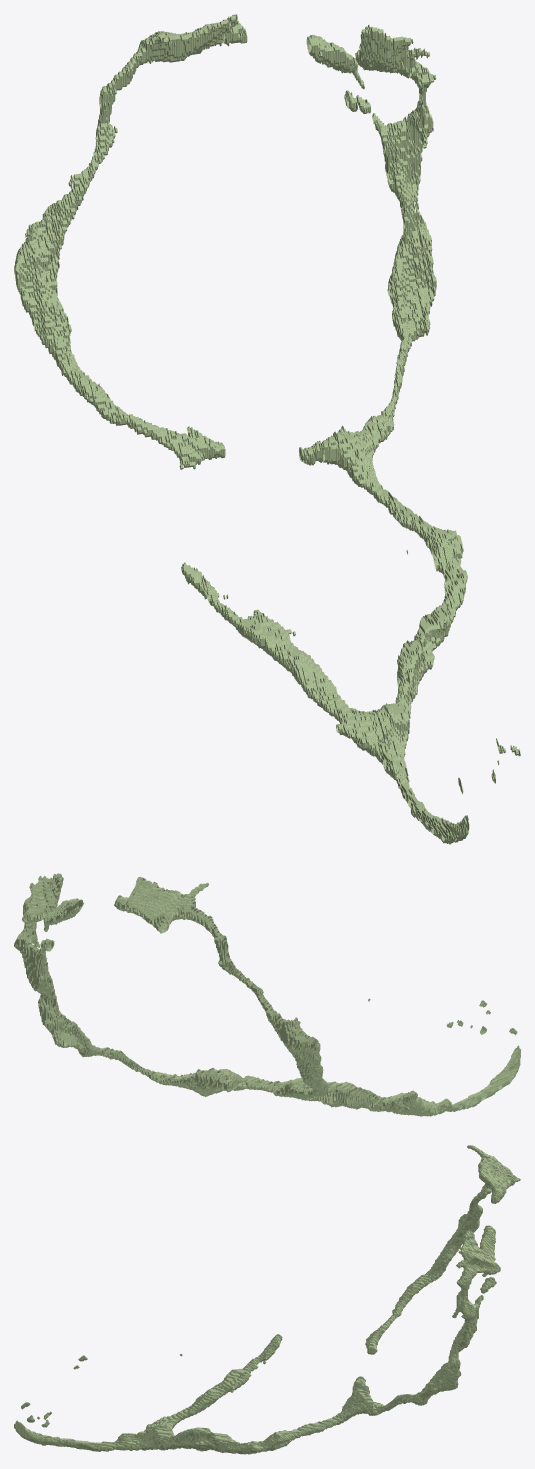
Rendered from SVV_RIH.gltf.
3 renders of one model, top to bottom at view 1: azimuth 30°, elevation 25°; view 2: azimuth 150°, elevation 25°; view 3: azimuth 270°, elevation 25°, orthographic. The views are drawn at different scales.
Parts seen in each view (by area): view 1: RIH; view 2: RIH; view 3: RIH.
Boxes of the visible parts, left/top/right/bottom form: RIH: left=14, top=14, right=520, bottom=844; RIH: left=14, top=873, right=520, bottom=1116; RIH: left=14, top=1145, right=520, bottom=1454.
Size of the model in its own units: 116422 by 140529 by 200602.
